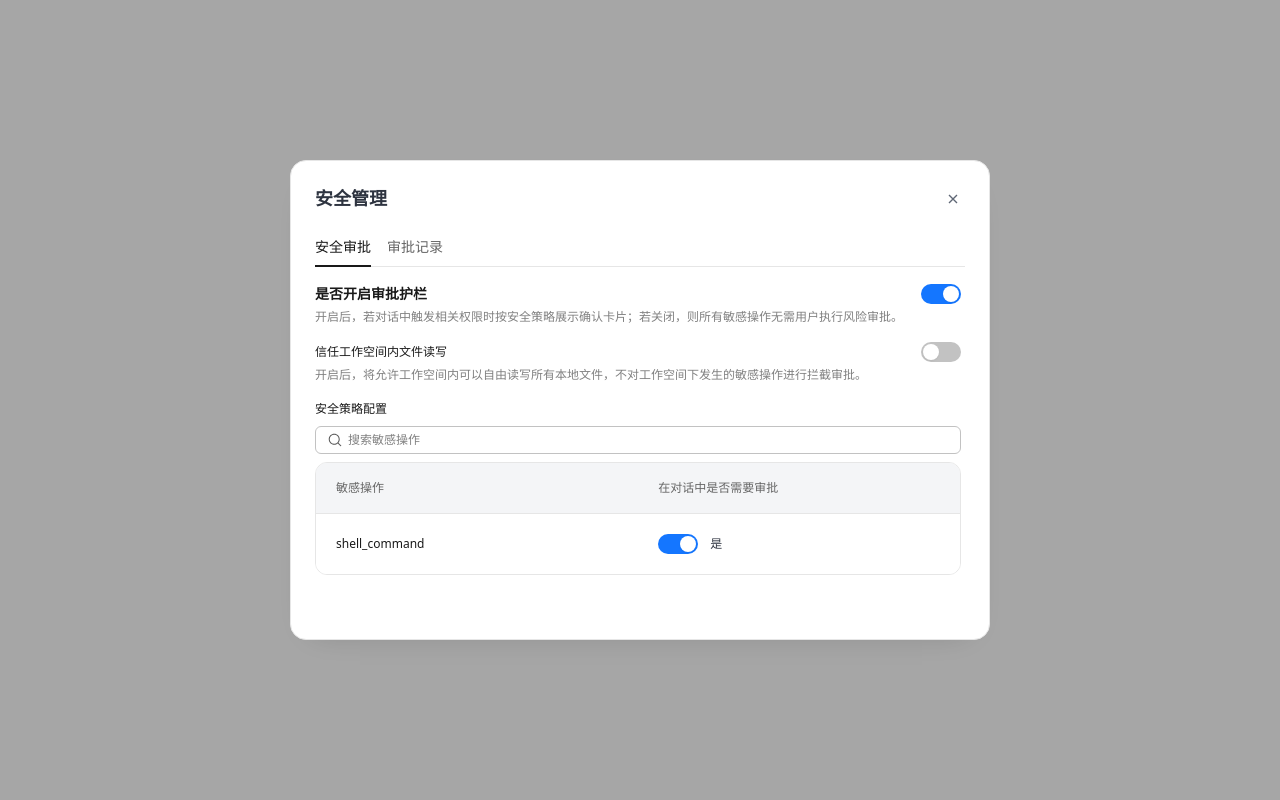
it: SecurityManagementModal › approval records tab › paginates cached batches locally and requests the next backend batch only when needed
Click the tab "审批记录" at [415, 248], box [387,228,443,267]
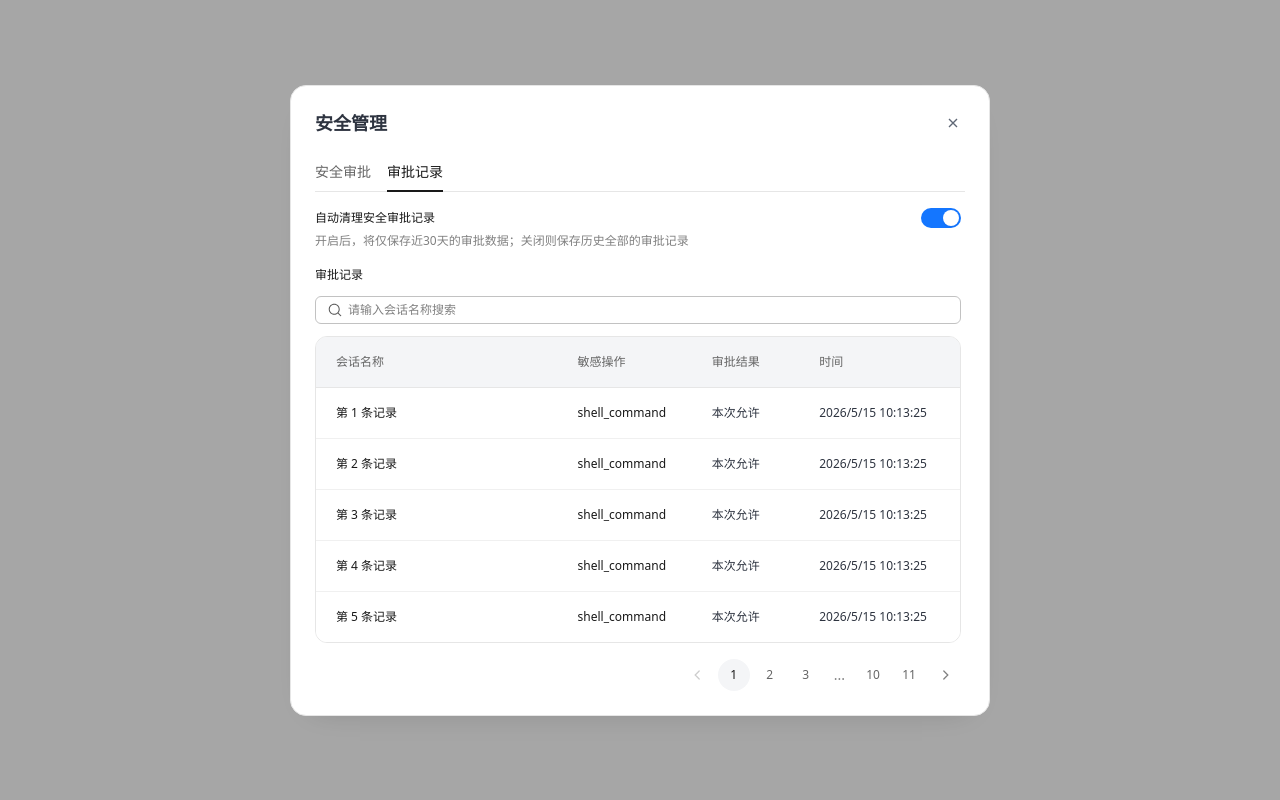
Check: the element with test id "approval-records-pagination" is shown, box [682,658,961,690]
Click the button with test id "approval-records-pagination-page-2" at [770, 674], box [754,658,786,690]
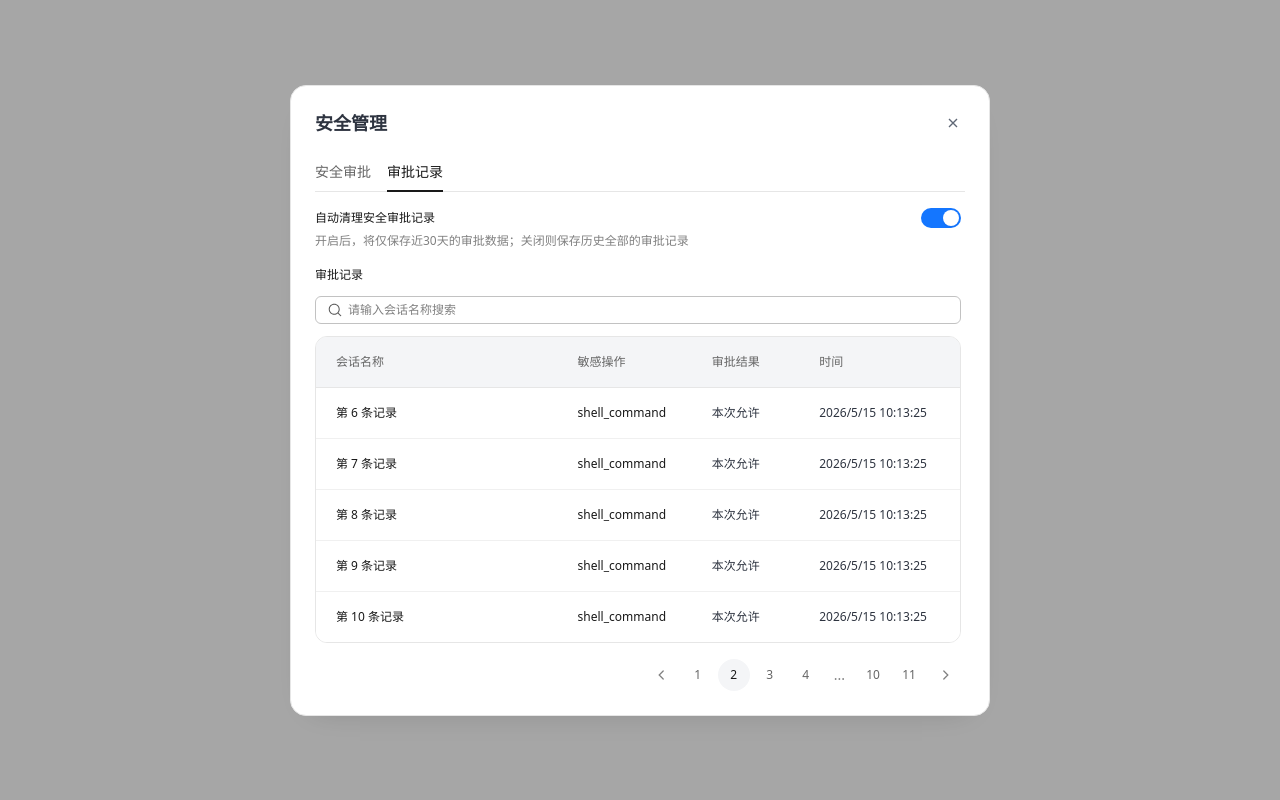
Check: the element with test id "approval-record-row-audit-006" is shown, box [316,388,960,438]
Check: the element with test id "approval-record-row-audit-001" is gone
Click the button with test id "approval-records-pagination-page-11" at [909, 674], box [893,658,925,690]
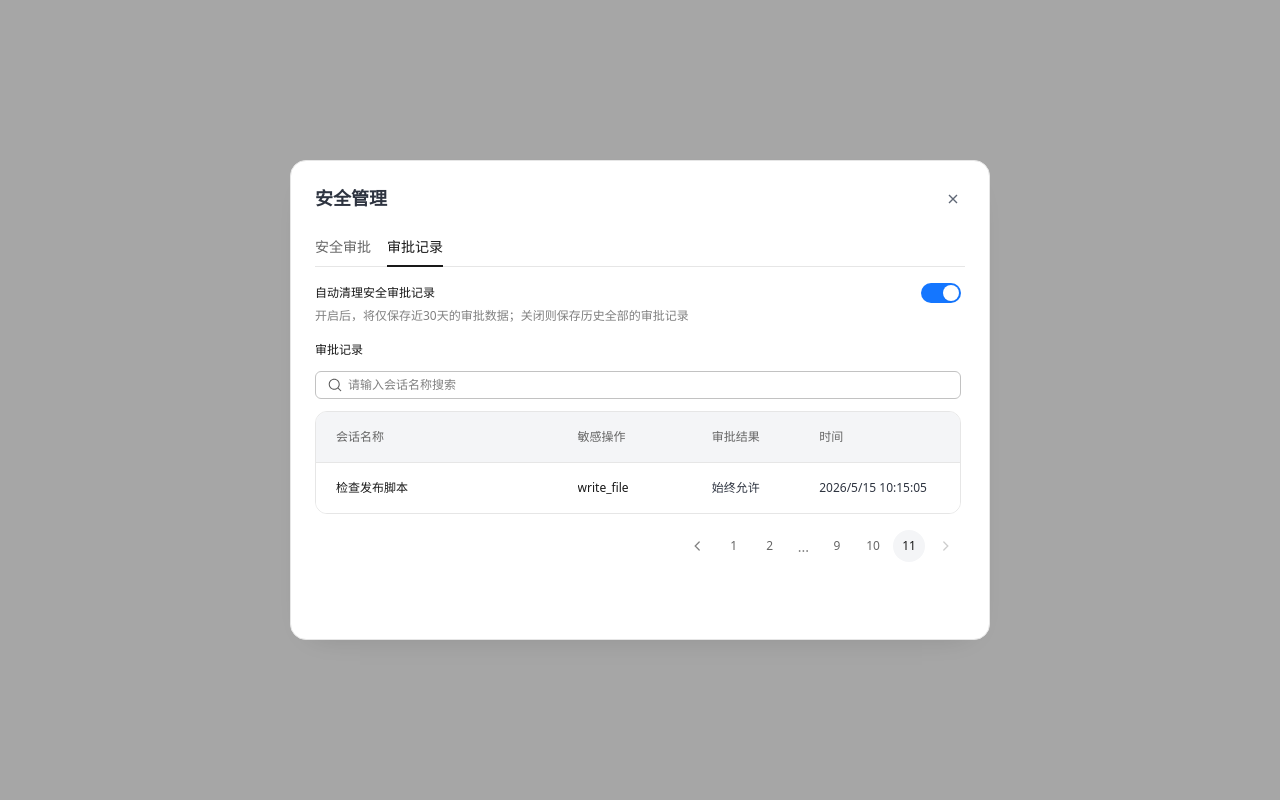
Check: the element with test id "approval-record-row-audit-006" is gone
Check: the element with test id "approval-record-row-audit-051" is shown, box [336,479,927,496]
